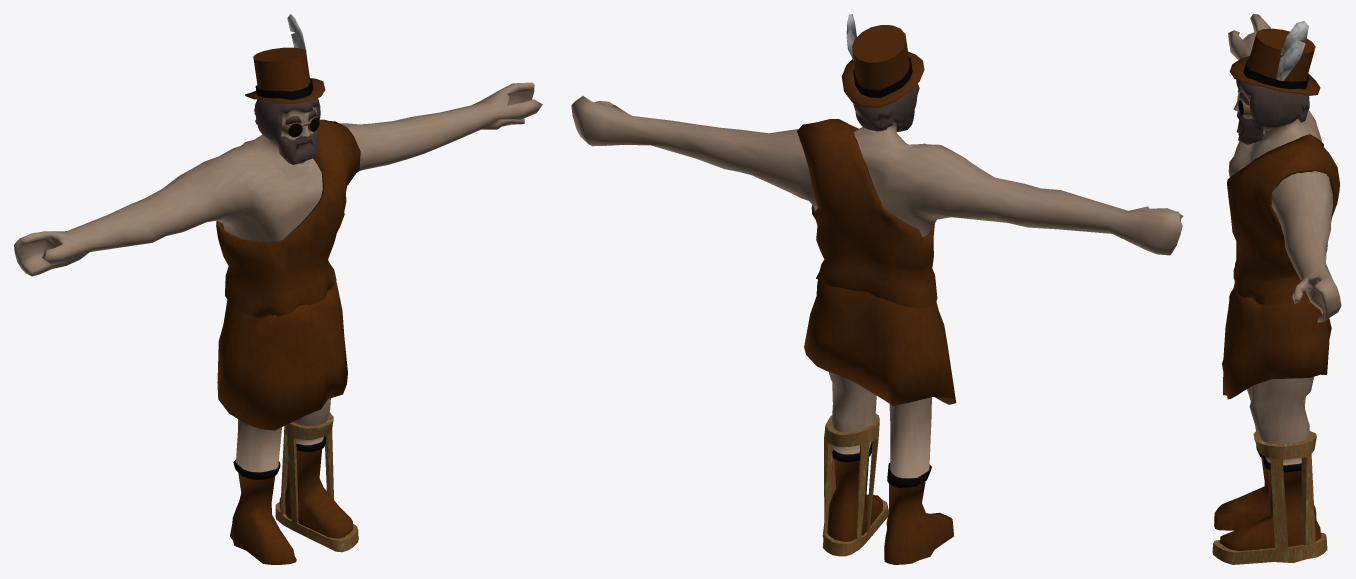
Rendered from Hephaestus.fbx.
3 views of the same model, side by side, from view 1: azimuth 30°, elevation 25°; view 2: azimuth 150°, elevation 25°; view 3: azimuth 270°, elevation 25° (orthographic). The views are drawn at different scales.
Parts seen in each view (by area): view 1: Hephaestus; view 2: Hephaestus; view 3: Hephaestus.
Boxes of the visible parts, left/top/right/bottom form: Hephaestus: left=14, top=14, right=542, bottom=564; Hephaestus: left=571, top=14, right=1183, bottom=564; Hephaestus: left=1212, top=14, right=1341, bottom=564.
Bounding box in the file's own units: 2.33 × 2.05 × 0.4543.
Materials: 1 (1 with a texture image).
